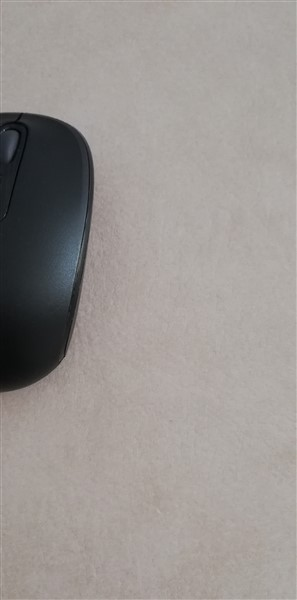mouse: (1, 107, 100, 396)
